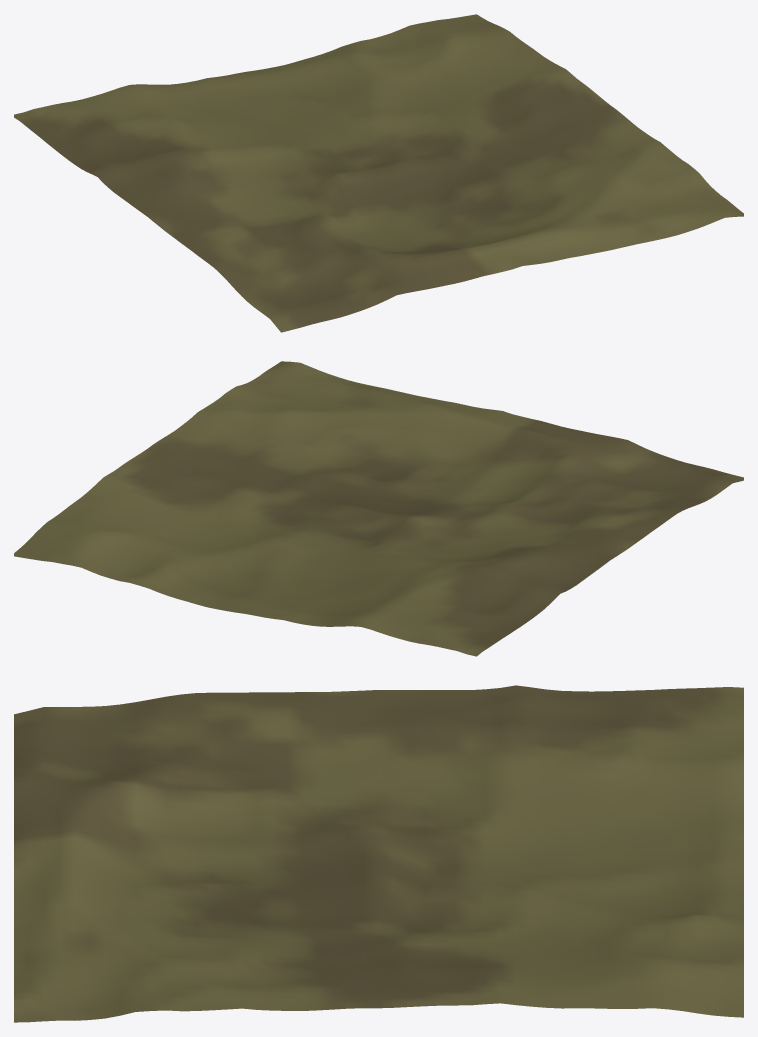
File: land_m_12_06.glb
The picture shows the model from 3 angles, top to bottom: view 1: azimuth 30°, elevation 25°; view 2: azimuth 150°, elevation 25°; view 3: azimuth 270°, elevation 25°; orthographic projection. The views are drawn at different scales.
Visible parts, largest first — view 1: land_m_12_06; view 2: land_m_12_06; view 3: land_m_12_06.
Part boxes in pixels (<box>): land_m_12_06: <box>14,14,743,332</box>; land_m_12_06: <box>14,361,743,656</box>; land_m_12_06: <box>14,685,743,1022</box>.
Bounding box in the file's own units: 960 × 59.29 × 960.
